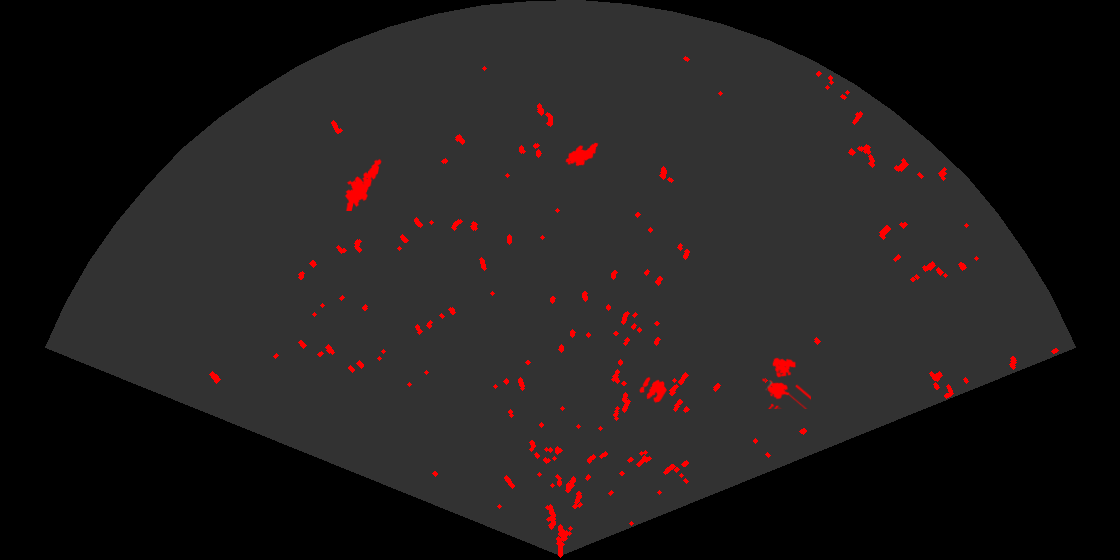AUV: (564, 141, 600, 168)
ball: (638, 375, 668, 405)
cage: (760, 356, 811, 409)
frogman: (343, 157, 383, 211)
